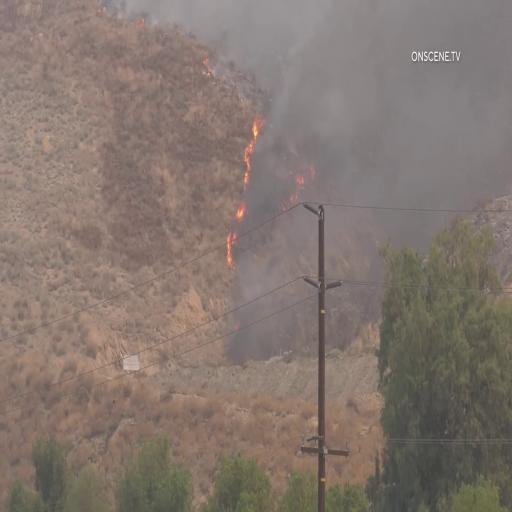fire: (222, 106, 274, 271)
smoke: (311, 36, 388, 187)
